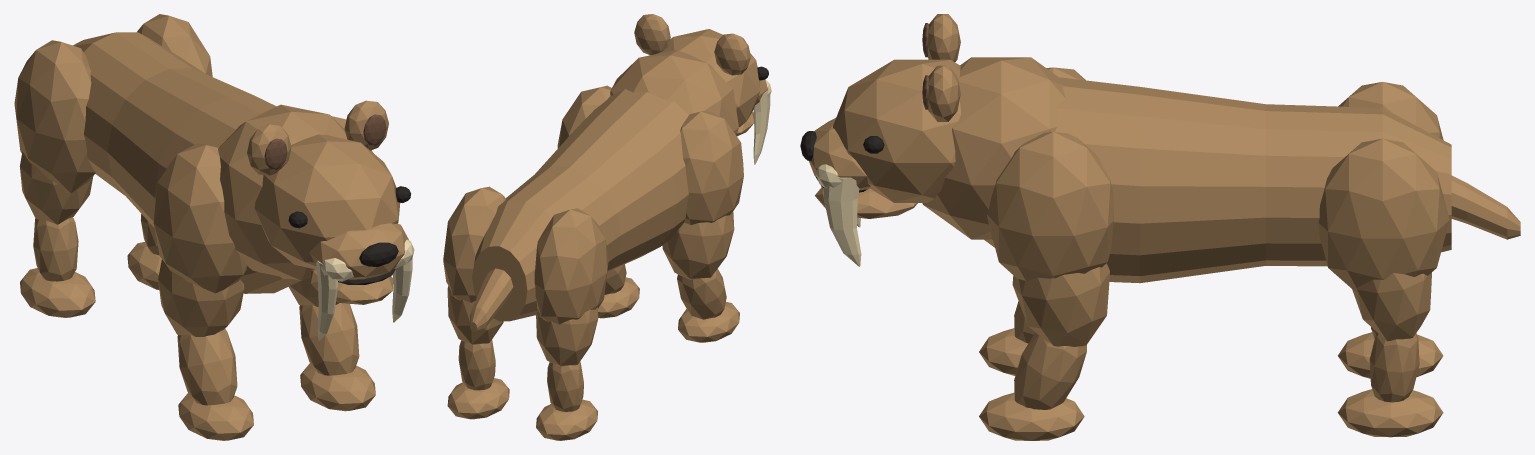
3 views of the same model, side by side, from view 1: azimuth 30°, elevation 25°; view 2: azimuth 150°, elevation 25°; view 3: azimuth 270°, elevation 25° (orthographic). The views are drawn at different scales.
Parts seen in each view (by area): view 1: surface_tawny_fur, surface_ivory_teeth_cheek, surface_dark_eye_mouth, surface_ear_inner_brown; view 2: surface_tawny_fur, surface_ivory_teeth_cheek; view 3: surface_tawny_fur, surface_ivory_teeth_cheek, surface_dark_eye_mouth.
Boxes of the visible parts, x1,y1,x2,y2 form: surface_tawny_fur: (14,14,408,440); surface_ivory_teeth_cheek: (316,239,414,340); surface_dark_eye_mouth: (288,186,410,284); surface_ear_inner_brown: (264,114,386,169); surface_tawny_fur: (443,14,767,440); surface_ivory_teeth_cheek: (753,80,771,164); surface_tawny_fur: (809,14,1520,440); surface_ivory_teeth_cheek: (815,164,861,266); surface_dark_eye_mouth: (800,131,884,192).
Bounding box in the file's own units: 0.2898 × 0.448 × 0.803.
